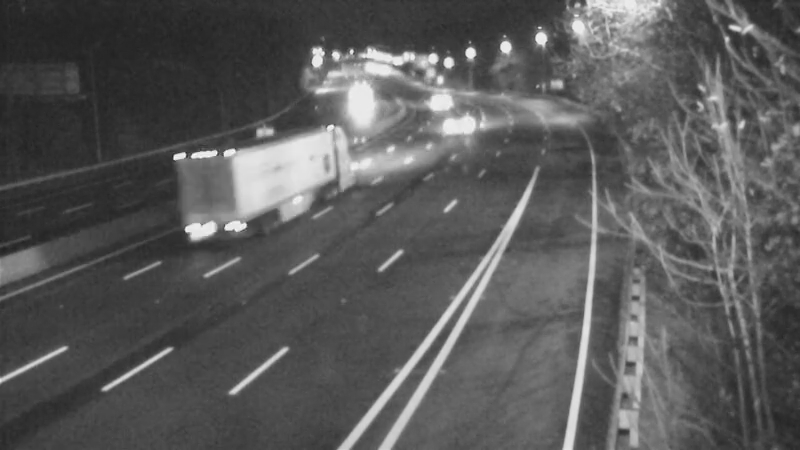vehicle: (191, 144, 271, 224), (412, 75, 462, 125), (435, 101, 485, 151), (333, 82, 383, 132)
